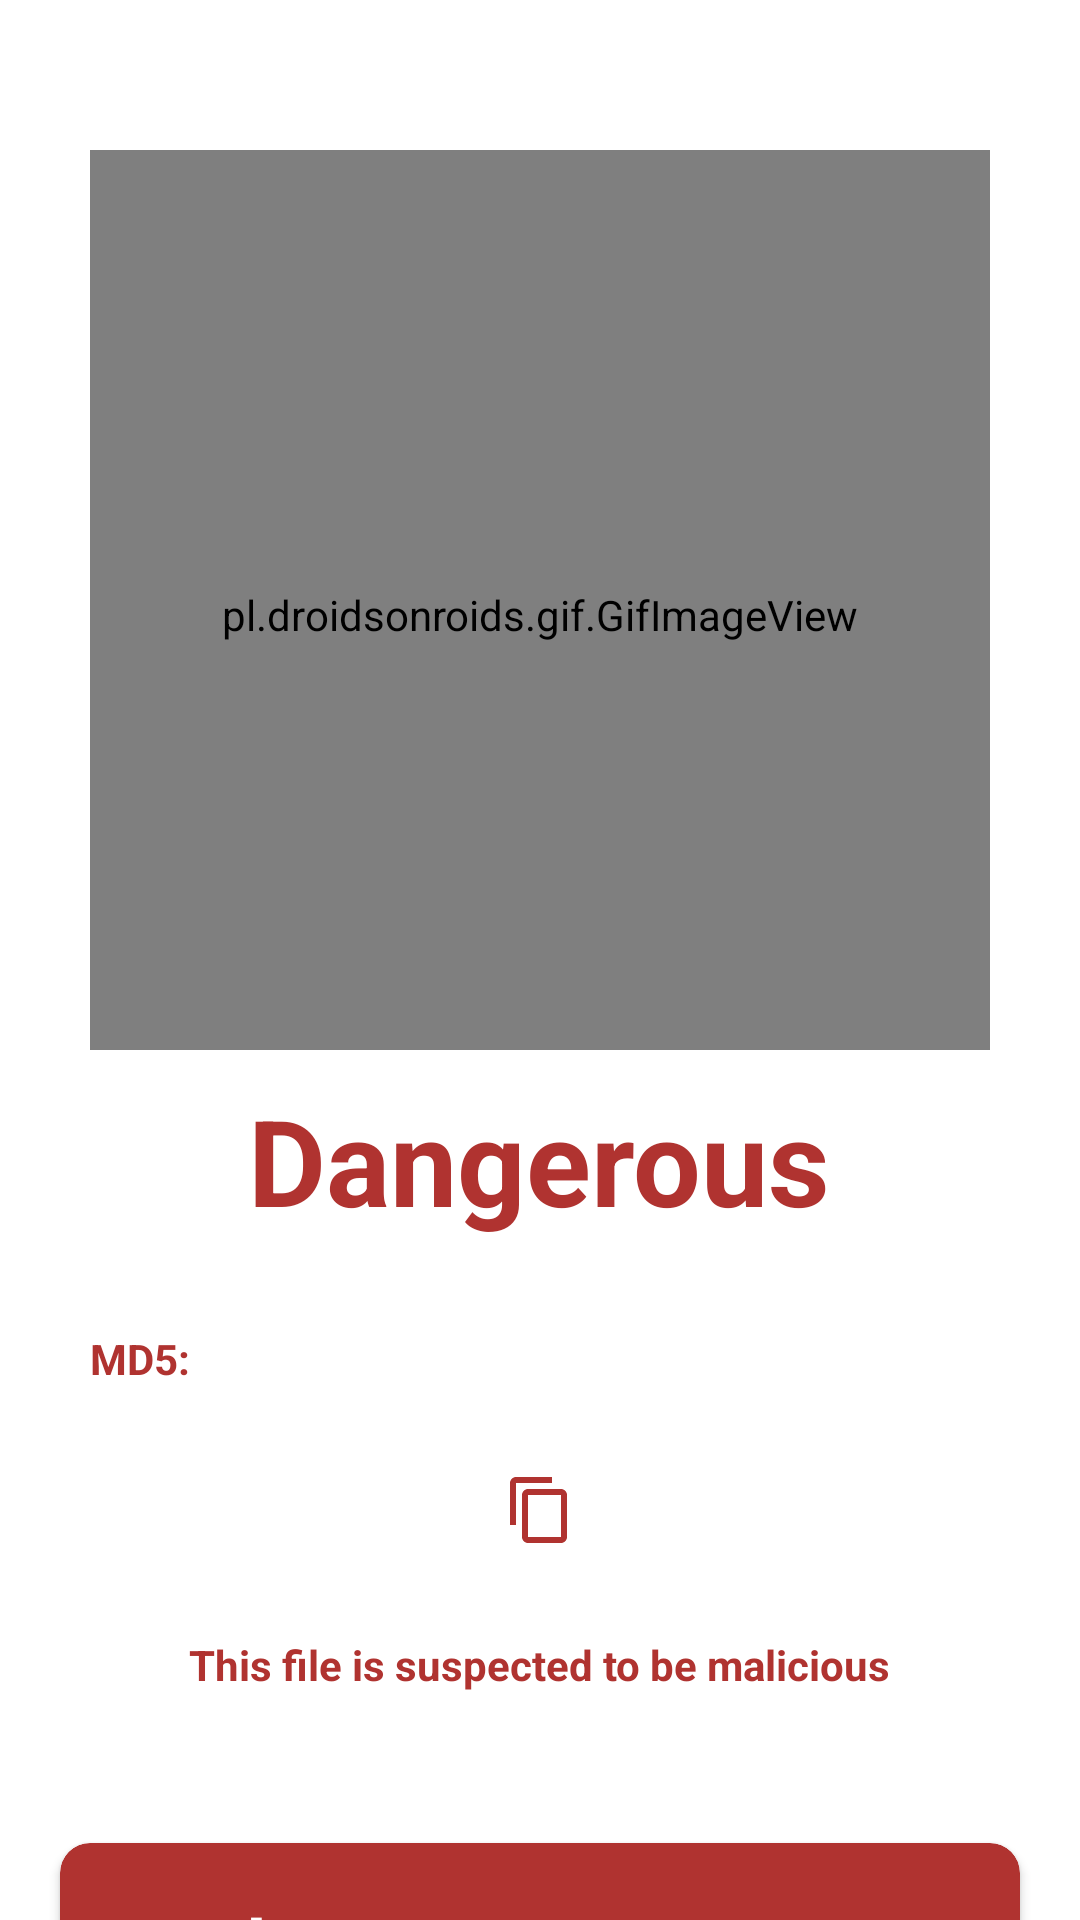

Icon bounding boxes for this 1080*1920 phone screenshot, format (x1, y1, x2, y2):
content copyred: (510, 1477, 567, 1543)
